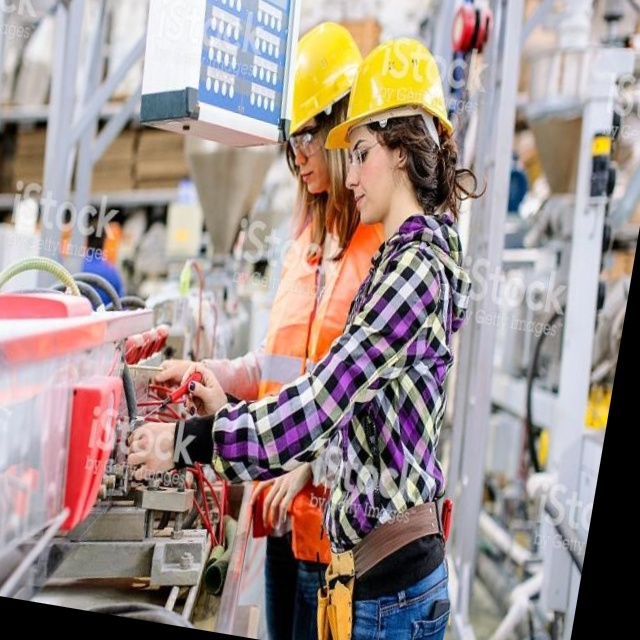Con_Casco: (313, 29, 470, 240)
